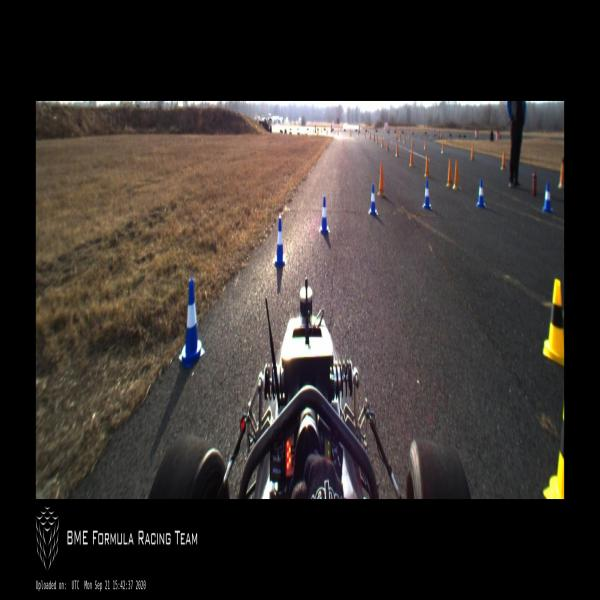blue_cone: (178, 279, 205, 369), (272, 216, 286, 267), (319, 196, 330, 234), (542, 182, 554, 213), (422, 180, 432, 210), (369, 184, 378, 216), (476, 177, 485, 208)
yellow_cone: (542, 392, 564, 499), (542, 275, 564, 368)
